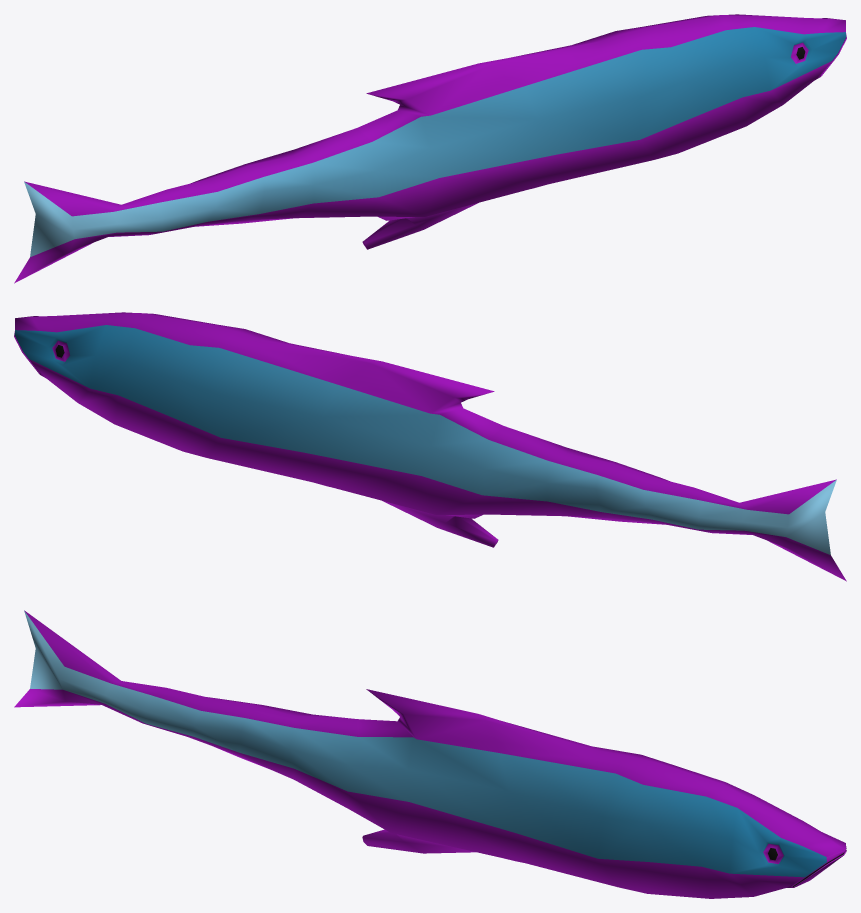
File: FishV3.fbx
The picture shows the model from 3 angles, top to bottom: view 1: azimuth 30°, elevation 25°; view 2: azimuth 150°, elevation 25°; view 3: azimuth 330°, elevation 25°; orthographic projection.
Parts seen in each view (by area): view 1: FishV3; view 2: FishV3; view 3: FishV3.
Part boxes in pixels (<box>): FishV3: <box>14,14,846,283</box>; FishV3: <box>14,312,846,581</box>; FishV3: <box>14,610,846,898</box>.
Bounding box in the file's own units: 263 × 48 × 24.14.
